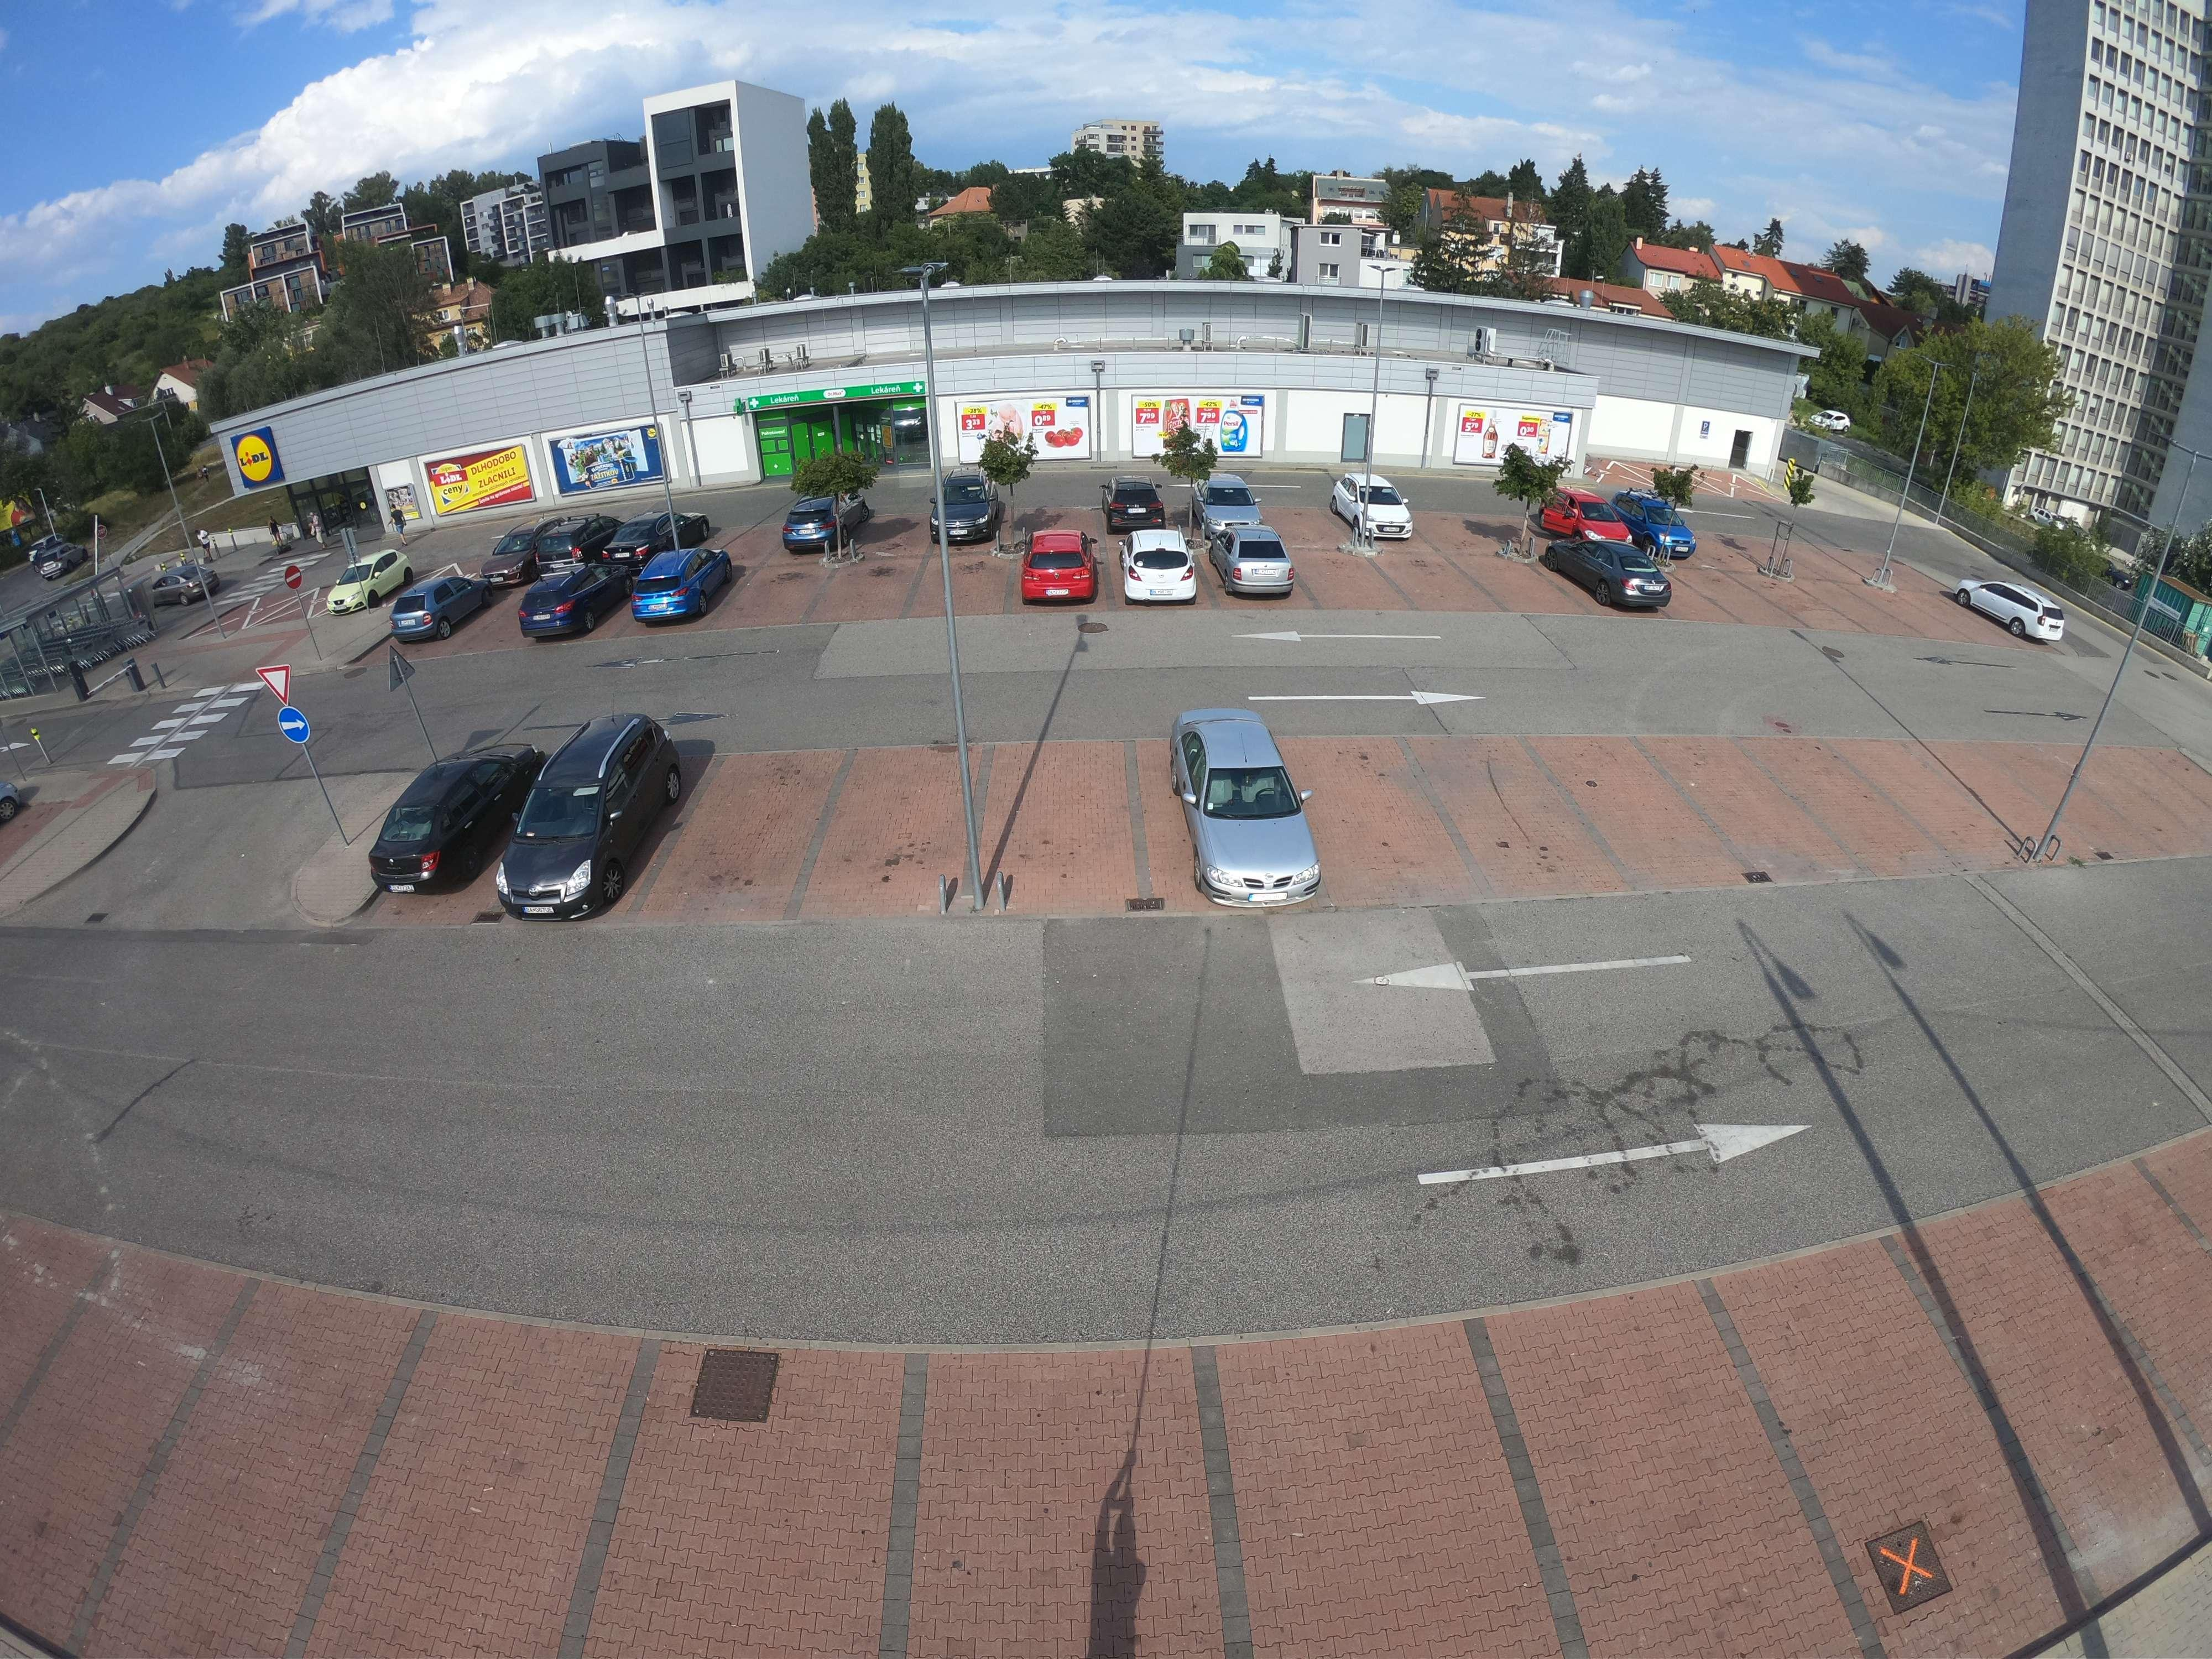empty: (486, 708, 679, 931), (1155, 702, 1334, 903), (359, 741, 526, 896), (622, 545, 738, 631), (1552, 537, 1674, 617), (514, 559, 629, 643), (1966, 573, 2081, 650), (383, 572, 495, 650), (1325, 469, 1428, 544), (1216, 526, 1308, 605), (1015, 530, 1101, 612), (1122, 532, 1205, 613), (1615, 491, 1707, 559), (775, 491, 866, 558), (327, 554, 416, 617), (603, 512, 698, 563), (935, 477, 1000, 549), (533, 516, 618, 563), (470, 532, 542, 586)
occupied: (1264, 1460, 1510, 1633), (1571, 1389, 1785, 1582), (637, 1481, 885, 1643), (381, 1434, 570, 1615), (953, 1490, 1162, 1643), (174, 1403, 341, 1560), (1811, 1349, 1979, 1483), (28, 1354, 160, 1485), (1996, 1333, 2139, 1445), (1022, 772, 1141, 884), (678, 782, 799, 880), (841, 775, 958, 877), (2123, 1249, 2212, 1363), (1458, 772, 1557, 866), (1325, 774, 1418, 871), (1700, 786, 1811, 857), (1987, 774, 2095, 843), (1587, 777, 1674, 849), (1811, 774, 1881, 854), (833, 568, 920, 617), (1893, 781, 1970, 835), (1313, 556, 1390, 608), (1399, 570, 1465, 626), (941, 566, 1008, 617), (1693, 580, 1764, 626), (744, 582, 820, 624), (1484, 570, 1552, 617)
